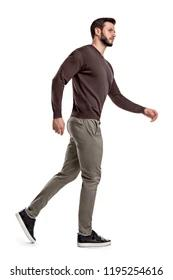sweater: (50, 42, 146, 120)
trousers: (23, 117, 104, 236)
